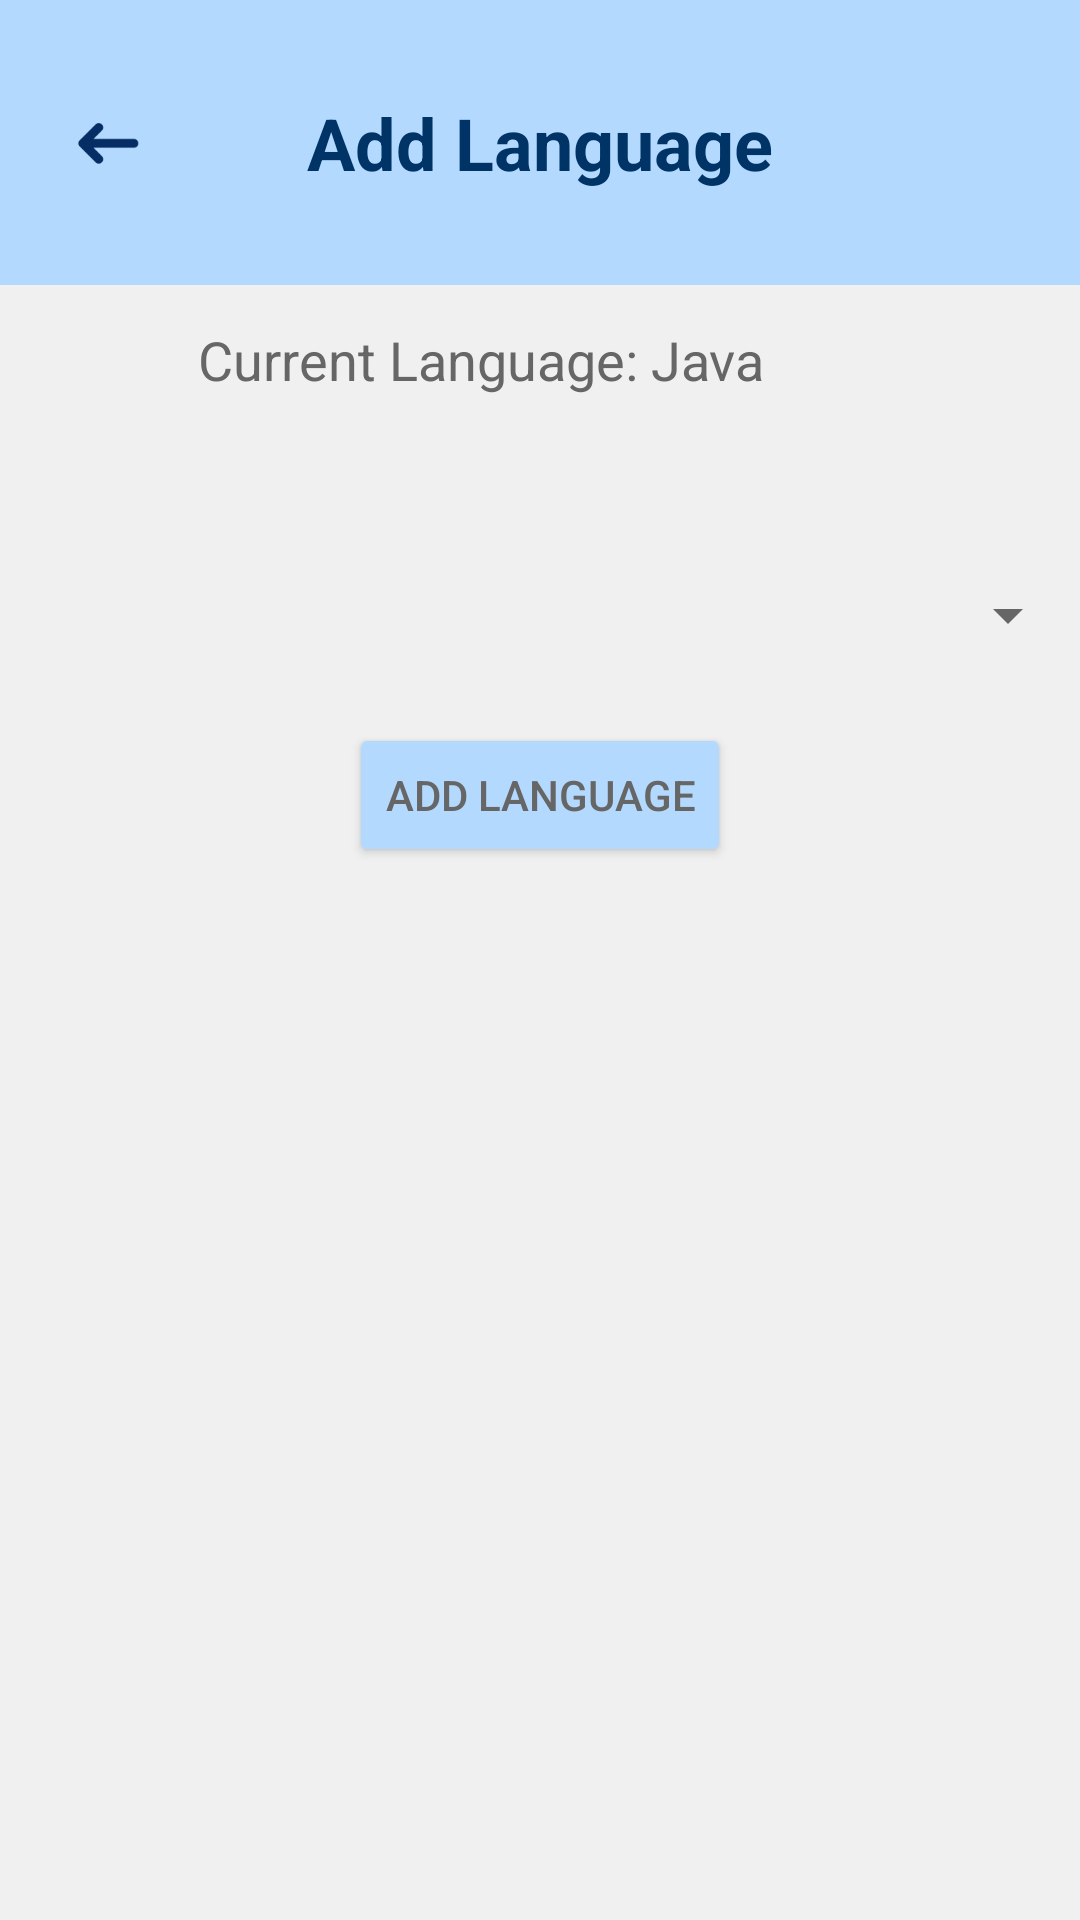

Icons on this 1080px x 1920px Android screen, each with its box as [x1=x1, y1=y1, x2=x2, y2=y2]:
Back: [x1=78, y1=123, x2=139, y2=164]
